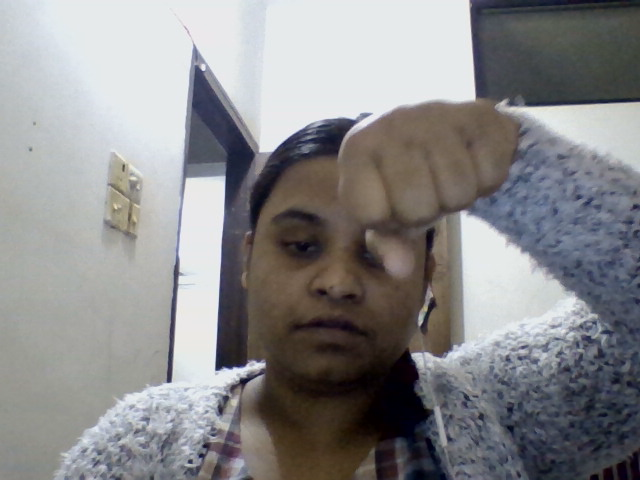Yes: (325, 64, 552, 271)
